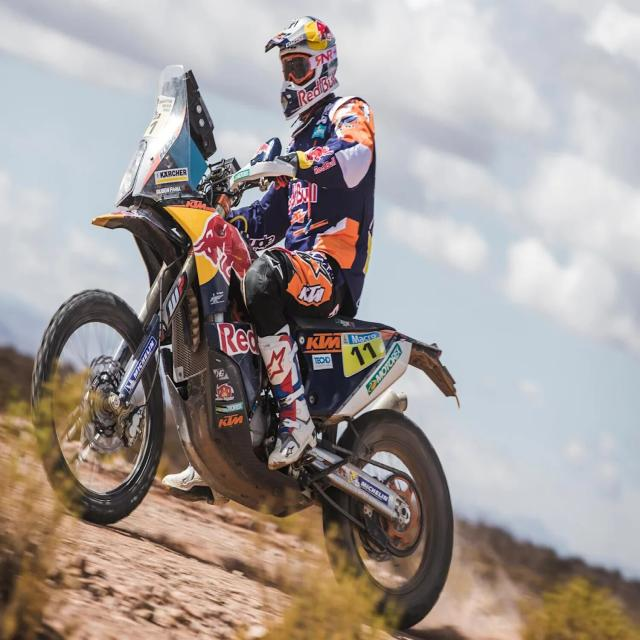illegal_helmet: (261, 13, 342, 124)
